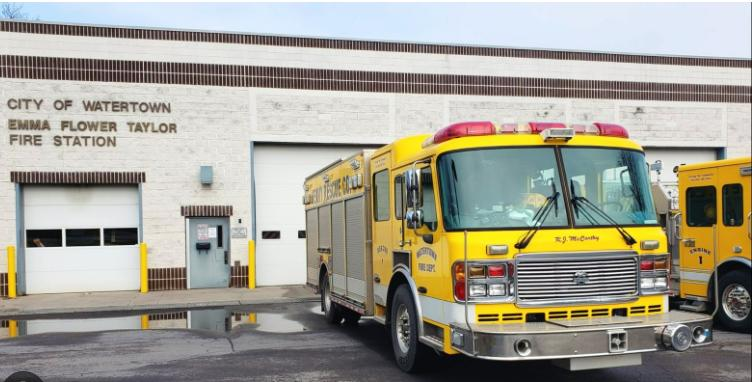firetruck_off: (302, 118, 713, 378)
